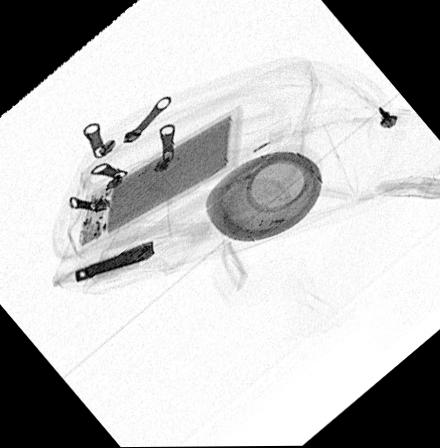Powerbank: (74, 105, 239, 254)
